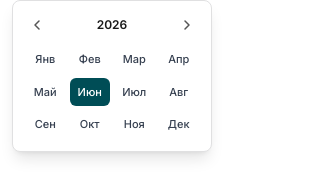
Test case: MonthYearPicker › increments year when next year arrow is clicked
Click the button named "Следующий год": (187, 25) [175,13,199,37]
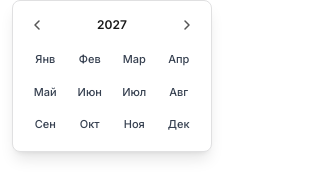
Check: the text "2027" is shown, box [97,17,127,33]
